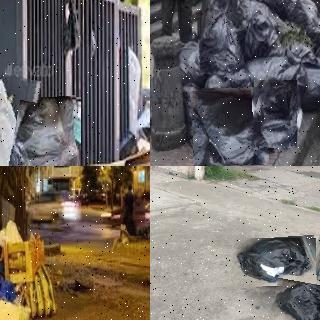Garbage: (192, 87, 268, 166), (7, 96, 83, 166), (248, 50, 320, 113), (233, 237, 317, 287), (250, 78, 302, 150), (196, 9, 247, 78), (0, 73, 34, 166), (235, 8, 284, 57), (269, 276, 320, 320), (25, 265, 55, 317), (286, 0, 320, 44), (0, 298, 30, 320)
